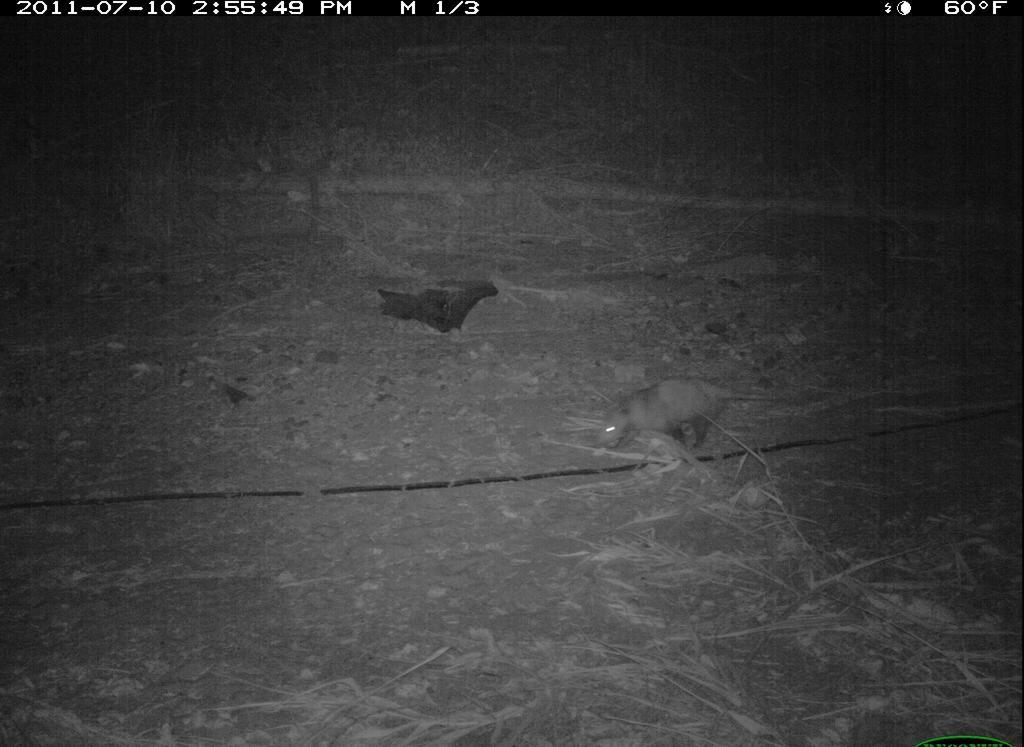opossum: (594, 377, 783, 455)
